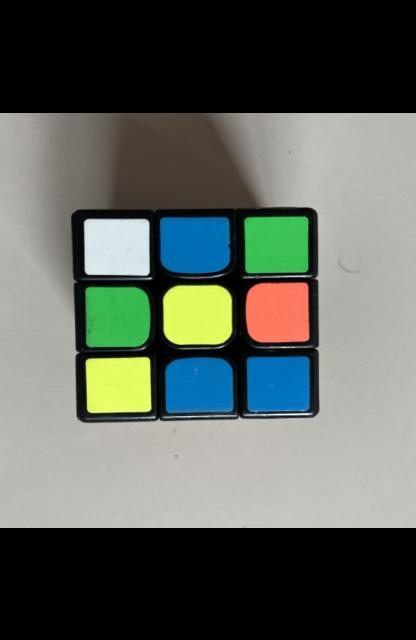Blue: (160, 216, 230, 272), (166, 356, 233, 412), (247, 356, 309, 411)
Green: (86, 285, 150, 346), (244, 215, 309, 272)
Orange: (245, 281, 309, 342)
White: (84, 218, 150, 274)
Yellow: (163, 284, 233, 344), (86, 356, 152, 412)
